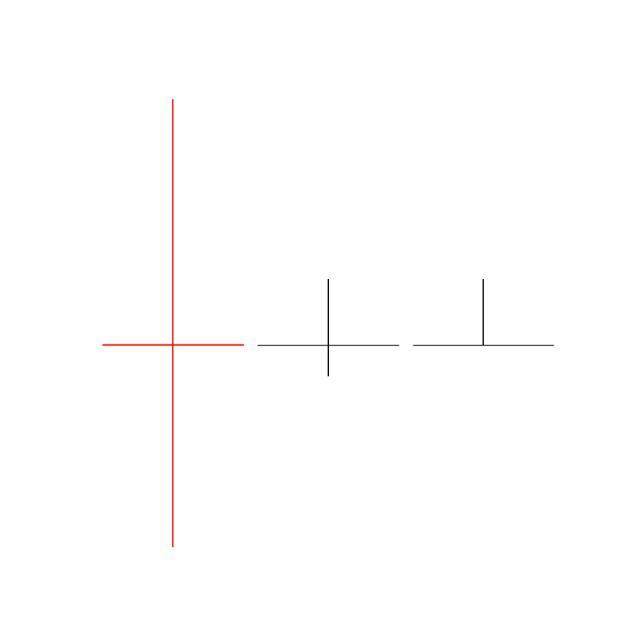Gravestone Doji: (406, 278, 562, 347)
